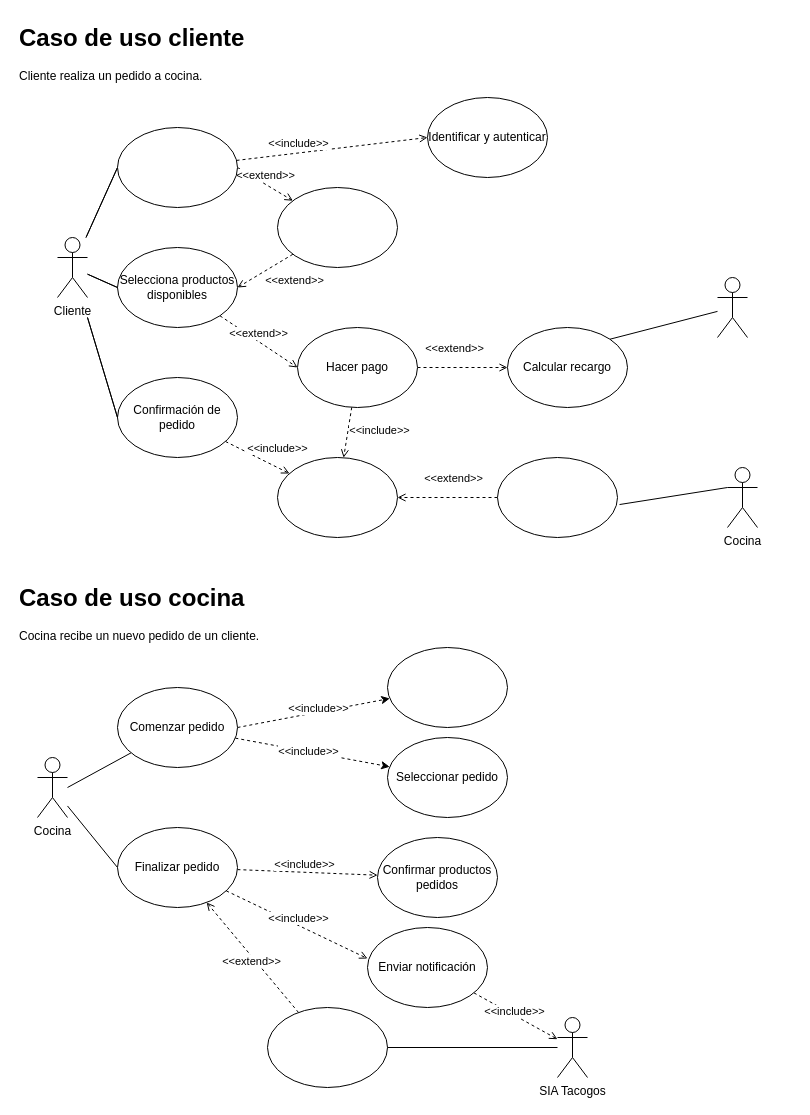
This 810x1115 diagram has some shape labels left out. The box of each missing label's shape, as (x1, y1, x2, y2) in pixels:
Actualizar pantalla de pedidos: (266, 1006, 388, 1088)
Identificar y autenticar usuario: (386, 646, 508, 728)
Inicio sesion en sistema: (116, 126, 238, 208)
Obtener pedido: (276, 456, 398, 538)
Sist. Pasarela de pago: (716, 276, 748, 338)
Sistema muestra catalogo de opciones: (276, 186, 398, 268)
Ver pedido: (496, 456, 618, 538)
